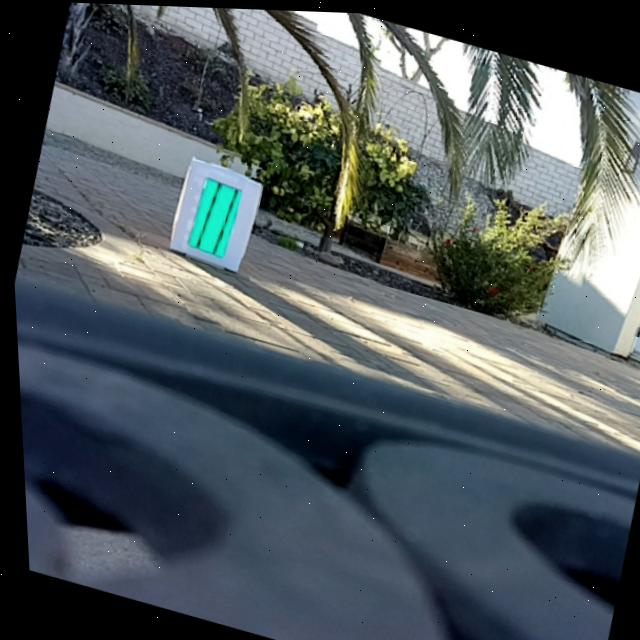led: (181, 172, 243, 259)
